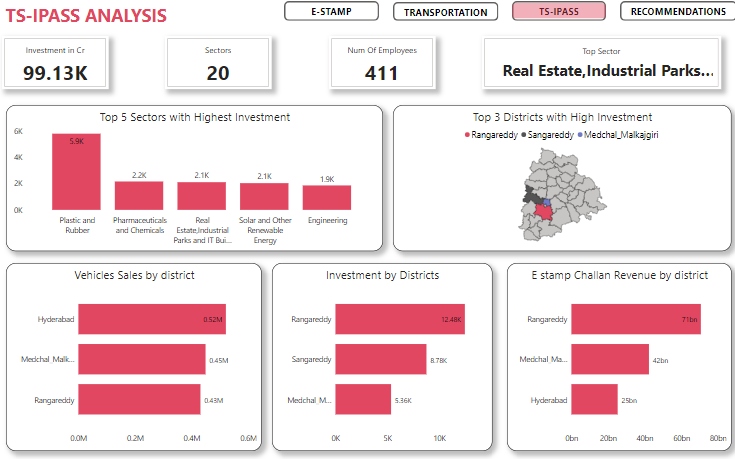

What the dashboard file says about the page in this screenshot:
{"tool":"powerbi","page":{"name":"TS-IPASS","canvas":[1600,1000],"ordinal":3},"visuals":[{"type":"textbox","box":[25,15,653.3,75],"z":0},{"type":"cardVisual","fields":{"Data":["Sum(fact_TS_iPASS.investment in cr)"]},"box":[23.3,90,226.7,113.3],"z":1000},{"type":"cardVisual","fields":{"Data":["Count(fact_TS_iPASS.sector)"]},"box":[371.1,90,226.7,113.3],"z":2000},{"type":"cardVisual","fields":{"Data":["Min(fact_TS_iPASS.sector)"]},"box":[1044.4,88.9,508.9,113.3],"z":3000},{"type":"cardVisual","fields":{"Data":["Count(fact_TS_iPASS.number_of_employees)"]},"box":[718.9,88.9,226.7,113.3],"z":4000},{"type":"columnChart","title":"Top 5 Sectors with Highest Investment","fields":{"Category":["fact_TS_iPASS.sector"],"Y":["Sum(fact_TS_iPASS.investment in cr)"]},"box":[31.1,235.6,802.2,311.1],"z":5000},{"type":"shapeMap","title":"Top 3 Districts with High Investment","fields":{"Category":["dim_districts.district"],"Value":["Sum(fact_TS_iPASS.investment in cr)"],"Series":["dim_districts.district"]},"box":[855.6,235.6,720,311.1],"z":6000},{"type":"barChart","title":"E stamp Challan Revenue by district","fields":{"Category":["dim_districts.district"],"Y":["Key Measures.Total E stamp Challan Rev"]},"box":[1097.8,573.3,477.8,400],"z":7000},{"type":"barChart","title":"Vehicles Sales  by district","fields":{"Category":["dim_districts.district"],"Y":["Transportation Measures.vehicle_type"]},"box":[31.1,573.3,544.4,400],"z":8000},{"type":"barChart","title":"Investment  by Districts","fields":{"Category":["dim_districts.district"],"Y":["Sum(fact_TS_iPASS.investment in cr)"]},"box":[597.8,573.3,468.9,400],"z":9000},{"type":"actionButton","box":[624.4,15.6,202.2,42.2],"z":10000},{"type":"actionButton","box":[855.6,17.8,224.4,40],"z":11000},{"type":"actionButton","box":[1108.9,15.6,200,42.2],"z":12000},{"type":"actionButton","box":[1337.8,15.6,248.9,42.2],"z":13000},{"type":"shape","box":[1108.9,20,200,33.3],"z":14000}]}

Visuals, with their boxes in screenshot pixels (x1, y1, x2, y2), scaled from the page's 1600x1000 canvas onto the 735x459 screenshot:
textbox: [11,7,312,41]
cardVisual - Sum(fact_TS_iPASS.investment in cr): [11,41,115,93]
cardVisual - Count(fact_TS_iPASS.sector): [170,41,275,93]
cardVisual - Min(fact_TS_iPASS.sector): [480,41,714,93]
cardVisual - Count(fact_TS_iPASS.number_of_employees): [330,41,434,93]
"Top 5 Sectors with Highest Investment" columnChart: [14,108,383,251]
"Top 3 Districts with High Investment" shapeMap: [393,108,724,251]
"E stamp Challan Revenue by district" barChart: [504,263,724,447]
"Vehicles Sales  by district" barChart: [14,263,264,447]
"Investment  by Districts" barChart: [275,263,490,447]
actionButton: [287,7,380,27]
actionButton: [393,8,496,27]
actionButton: [509,7,601,27]
actionButton: [615,7,729,27]
shape: [509,9,601,24]
